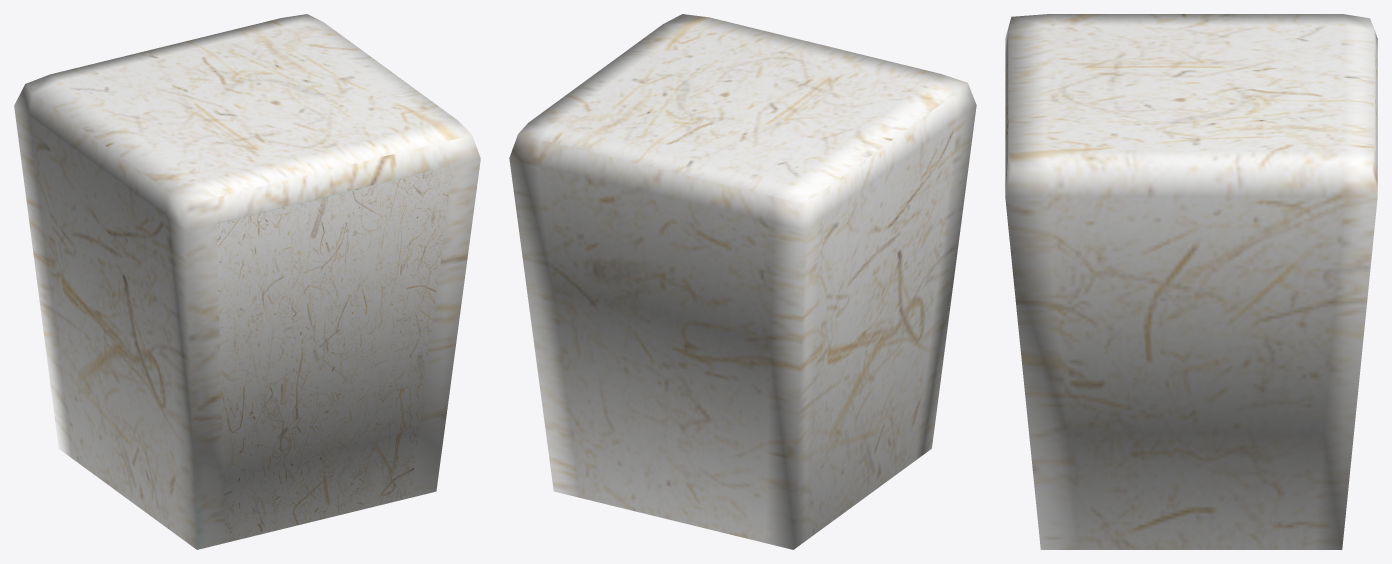
The model's file is lantern.glb.
3 views of the same model, side by side, from view 1: azimuth 30°, elevation 25°; view 2: azimuth 150°, elevation 25°; view 3: azimuth 270°, elevation 25° (orthographic). The views are drawn at different scales.
Parts seen in each view (by area): view 1: Cube.110; view 2: Cube.110; view 3: Cube.110.
Part boxes in pixels (left/top/right/bottom): Cube.110: left=14, top=14, right=480, bottom=549; Cube.110: left=509, top=14, right=976, bottom=549; Cube.110: left=1005, top=14, right=1377, bottom=549.
Size of the model in its own units: 2 by 2.36 by 2.
Materials: 1 (1 with a texture image).
